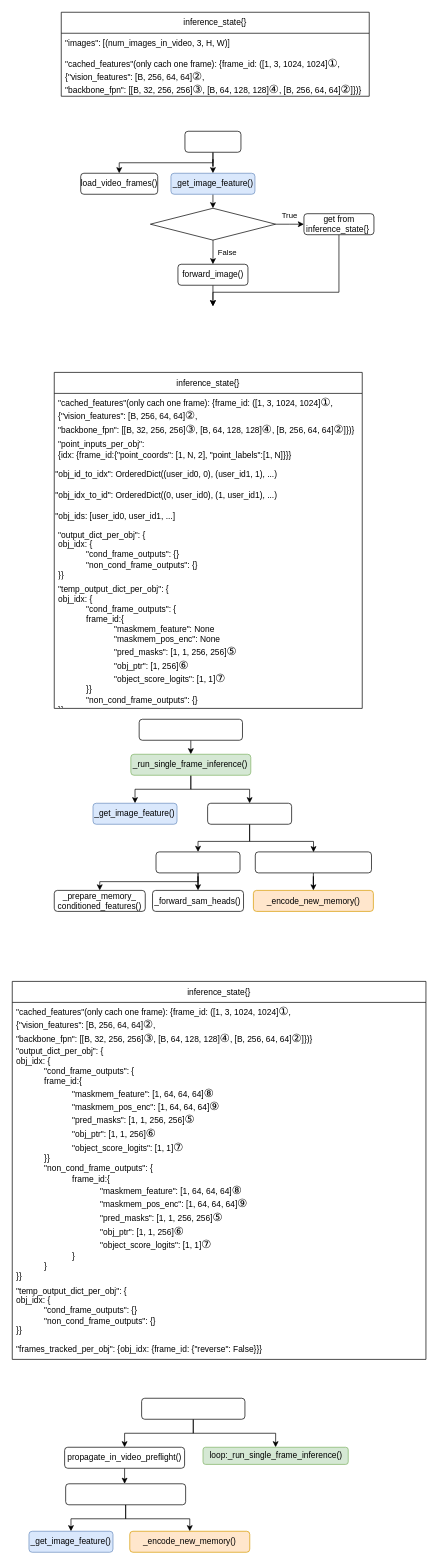
This 438x1565 diagram has some shape labels left out. The centre of each missing label's shape, as x and y in pixels:
"cached_features" exist?: (213,224)
_encode_memory_in_output(): (313,862)
_run_memory_encoder(): (125,1494)
_track_step(): (197,862)
add_new_points_or_box(): (190,729)
init_state(): (212,141)
proprogate_in_video(): (193,1408)
track_step(): (249,813)
